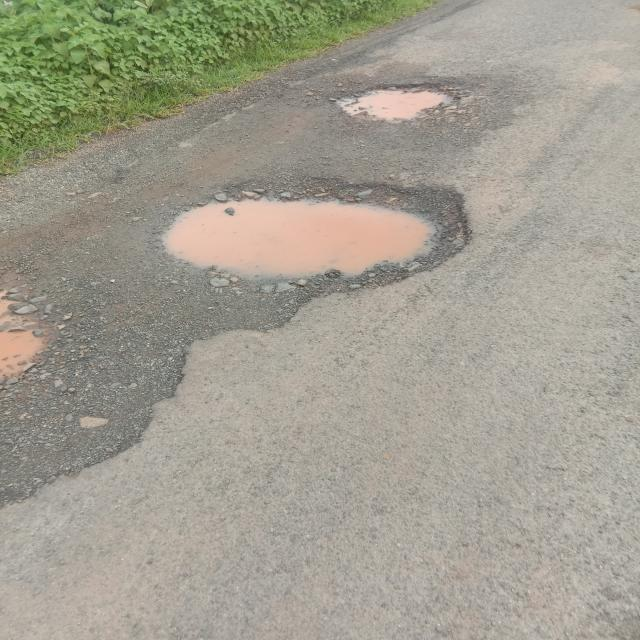potholes: (144, 178, 472, 290), (324, 80, 470, 124), (0, 290, 52, 390)
